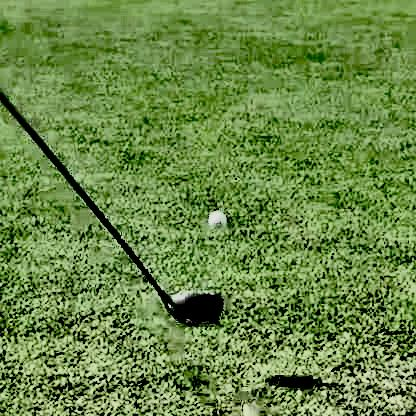golfball: (206, 207, 223, 227)
